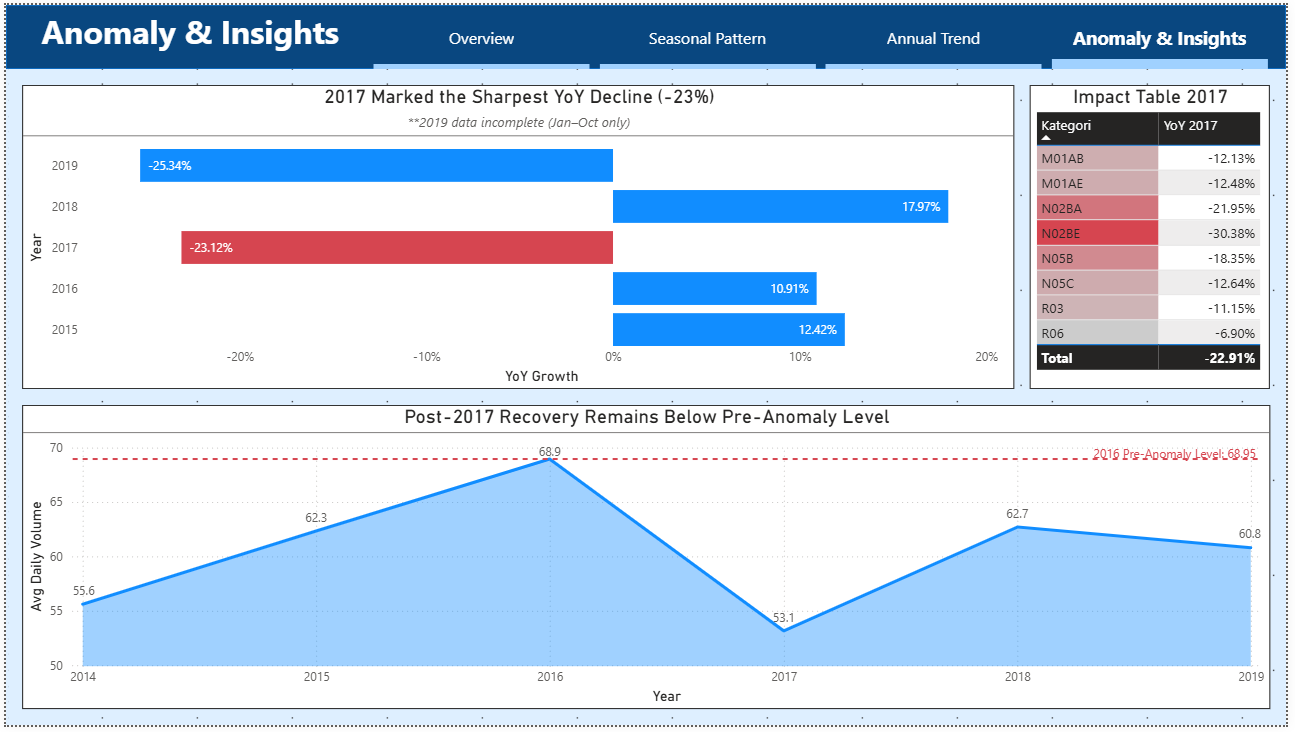

What the dashboard file says about the page in this screenshot:
{"tool":"powerbi","page":{"name":"Anomaly & Insights","canvas":[1280,720],"ordinal":3},"visuals":[{"type":"shape","box":[0,0,1280,64],"z":0},{"type":"textbox","title":"qwertyuio","box":[16,0,336,64],"z":1000},{"type":"clusteredBarChart","title":"2017 Marked the Sharpest YoY Decline (-23%)","fields":{"Category":["salesdaily.datum.Variation.Date Hierarchy.Year"],"Y":["salesdaily.YoY Growth v2"]},"box":[16,80,992,304],"z":2000},{"type":"tableEx","title":"Impact Table 2017","fields":{"Values":["salesdaily.Kategori","salesdaily.YoY 2017"]},"box":[1024,80,240,304],"z":3000},{"type":"lineChart","title":"Post-2017 Recovery Remains Below Pre-Anomaly Level","fields":{"Category":["salesdaily.datum.Variation.Date Hierarchy.Year"],"Y":["salesdaily.Avg Daily Volume"]},"box":[16,400,1248,304],"z":4000},{"type":"pageNavigator","box":[368,0,896,64],"z":4001}]}

Visuals, with their boxes in screenshot pixels (x1, y1, x2, y2), scaled from the page's 1280x720 canvas onto the 1295x732 screenshot:
shape: [0, 0, 1294, 65]
"qwertyuio" textbox: [16, 0, 356, 65]
"2017 Marked the Sharpest YoY Decline (-23%)" clusteredBarChart: [16, 81, 1020, 390]
"Impact Table 2017" tableEx: [1036, 81, 1279, 390]
"Post-2017 Recovery Remains Below Pre-Anomaly Level" lineChart: [16, 407, 1279, 716]
pageNavigator: [372, 0, 1279, 65]
